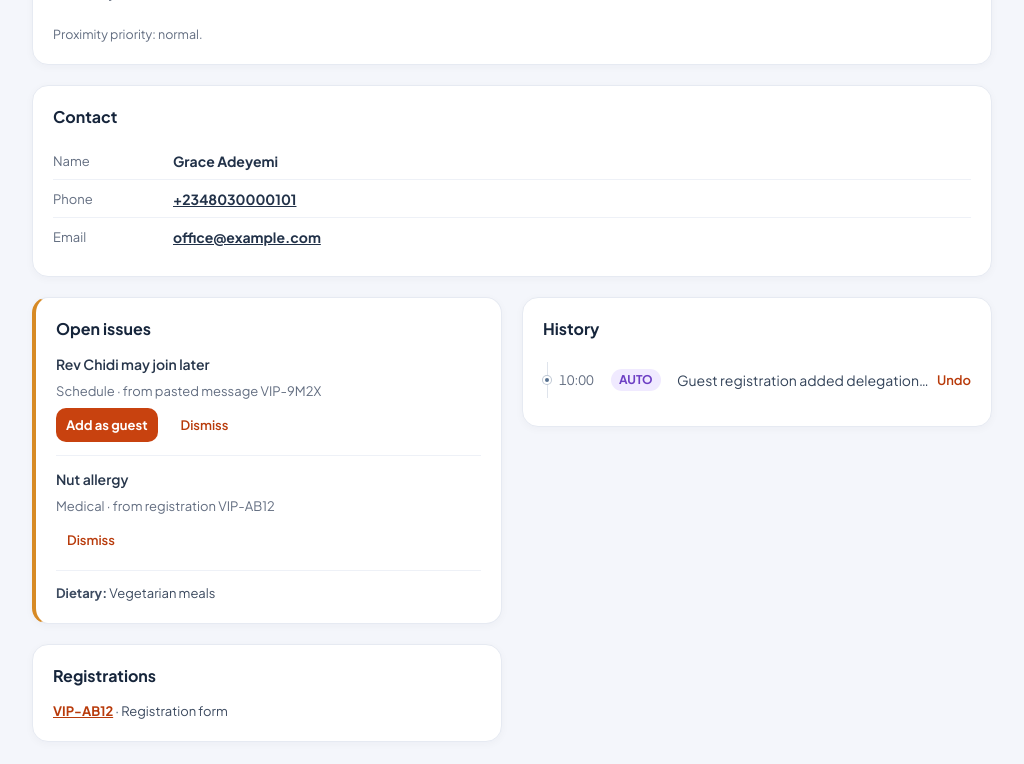
Test case: GuestProfileScreen › undoes an automatic change from the history
(page scrolled)
expect the text "Guest registration added delegation Bishop Augustine Okafor" is shown: met, box [677,370,929,390]
Click the button "Undo" at {"x": 954, "y": 380}, box [937,371,971,389]
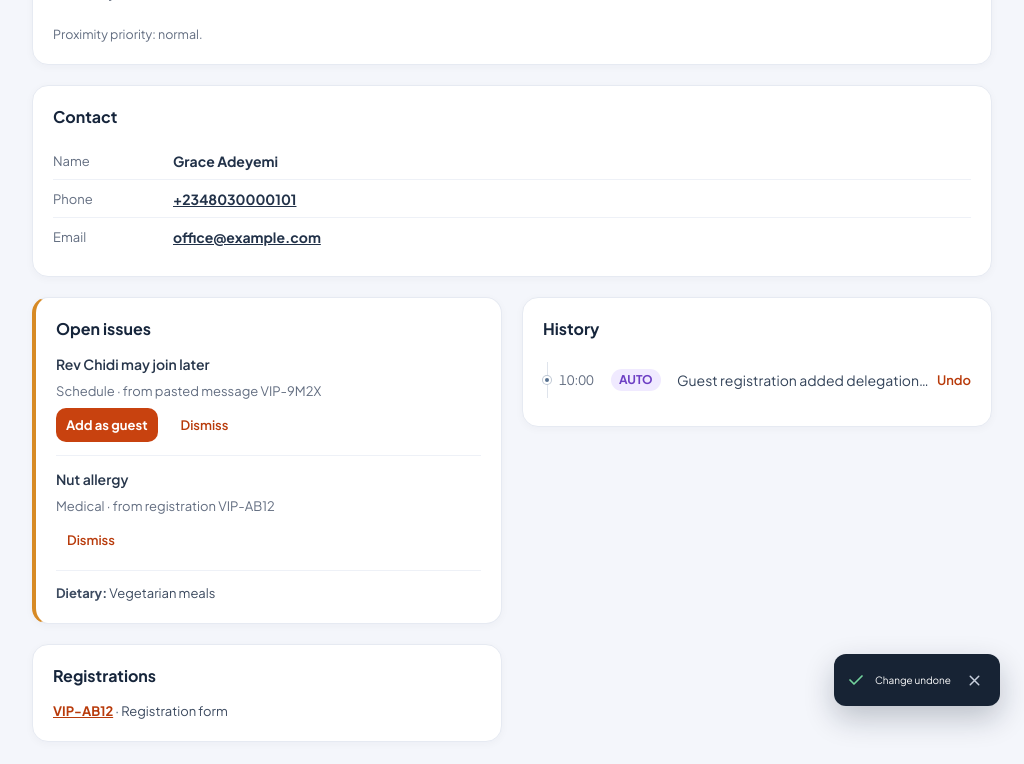
expect the text "Change undone" is shown: met, box [875,670,951,690]
